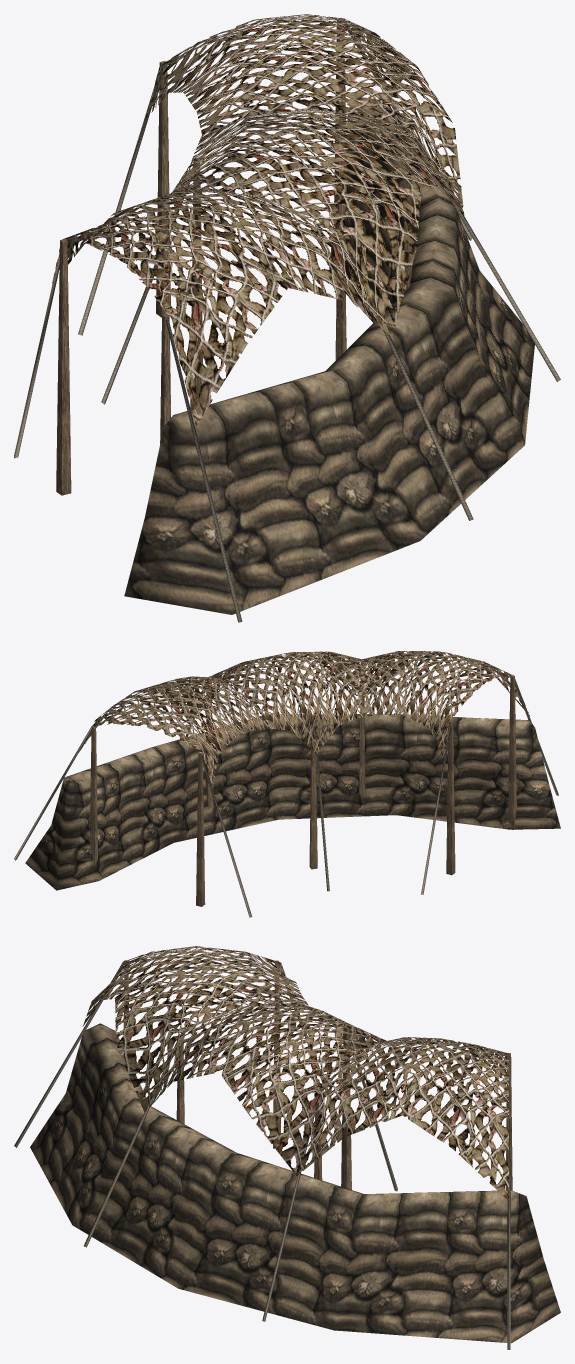
Rendered from bnkr10.glb.
The picture shows the model from 3 angles, top to bottom: view 1: azimuth 30°, elevation 25°; view 2: azimuth 150°, elevation 25°; view 3: azimuth 270°, elevation 25°; orthographic projection. The views are drawn at different scales.
Visible parts, largest first — view 1: _bnkr10; view 2: _bnkr10; view 3: _bnkr10.
Part boxes in pixels (x1,y1,x2,y2): _bnkr10: (14, 14, 560, 622); _bnkr10: (14, 651, 560, 917); _bnkr10: (14, 946, 560, 1349).
Size of the model in its own units: 6.52 by 2.95 by 6.68.
Materials: 2 (2 with a texture image).
